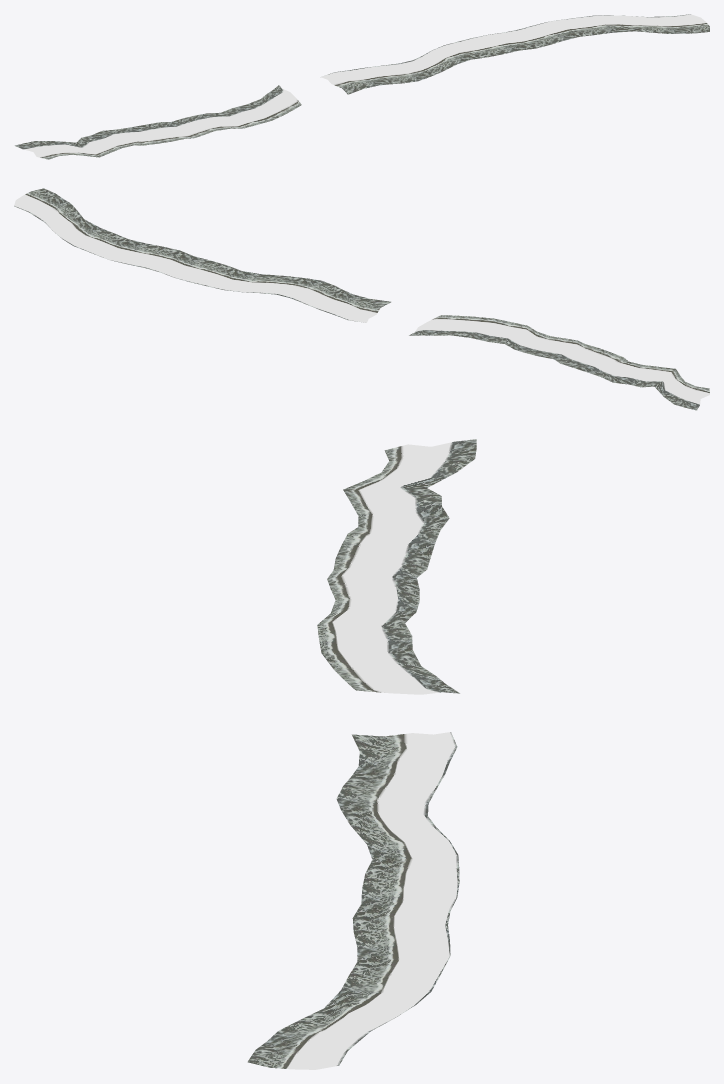
The model's file is wave01.FBX.
3 renders of one model, top to bottom at view 1: azimuth 30°, elevation 25°; view 2: azimuth 150°, elevation 25°; view 3: azimuth 270°, elevation 25°, orthographic. The views are drawn at different scales.
Parts seen in each view (by area): view 1: wave01; view 2: wave01; view 3: wave01.
Boxes of the visible parts, <box> form: wave01: <box>14,14,709,159</box>; wave01: <box>14,188,709,410</box>; wave01: <box>247,439,476,1069</box>.
Bounding box in the file's own units: 1939 × 298 × 0.
